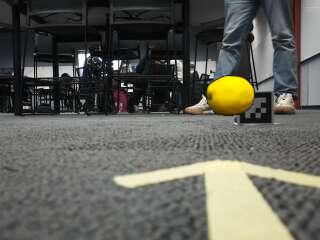lemon: (207, 76, 253, 115)
